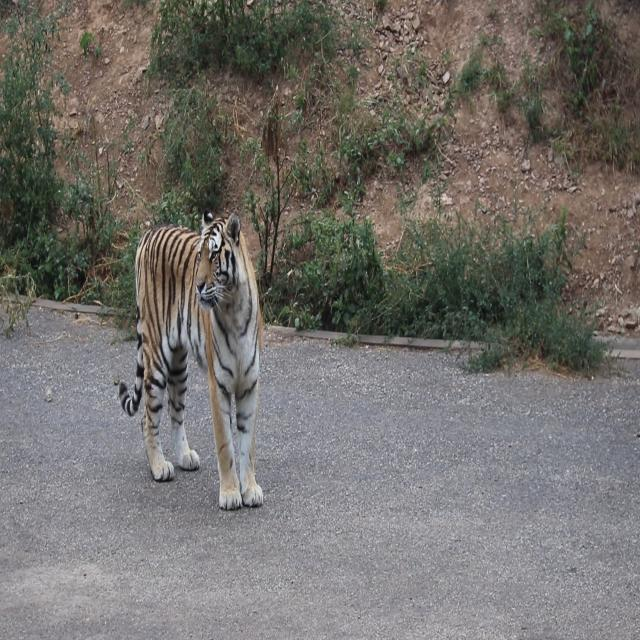Tiger: (105, 199, 304, 516)
